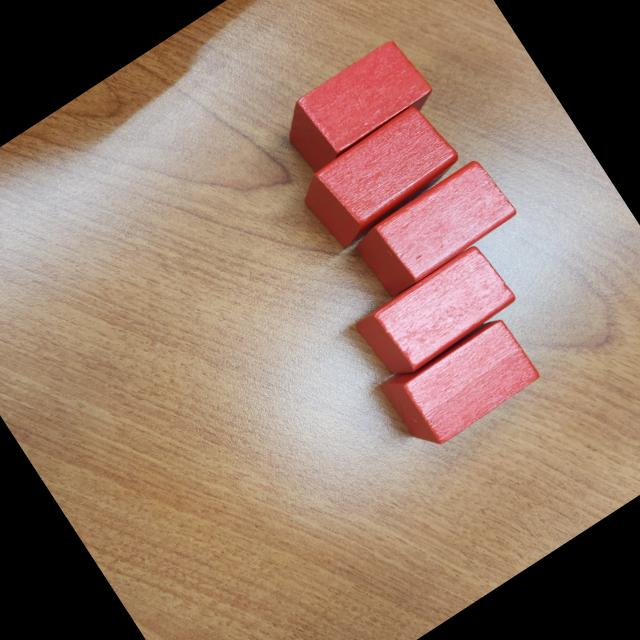red: (269, 34, 442, 182), (301, 106, 457, 250), (354, 159, 518, 295), (354, 247, 518, 372), (379, 321, 542, 444)
